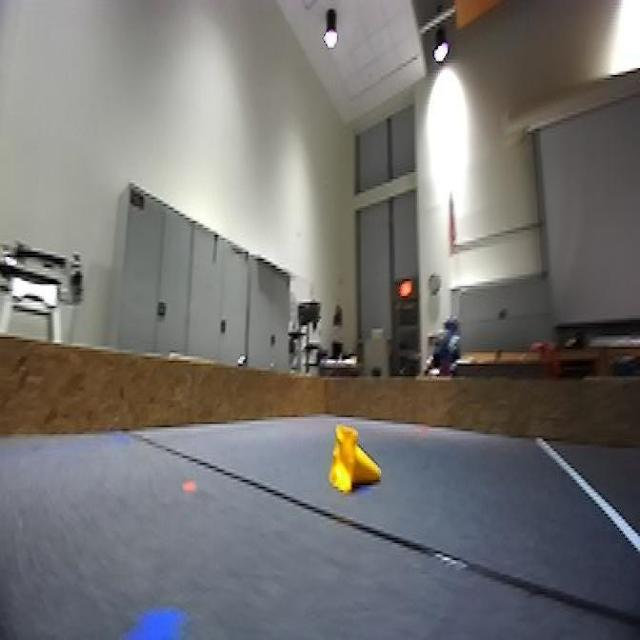frc_cone: (325, 431, 377, 502)
